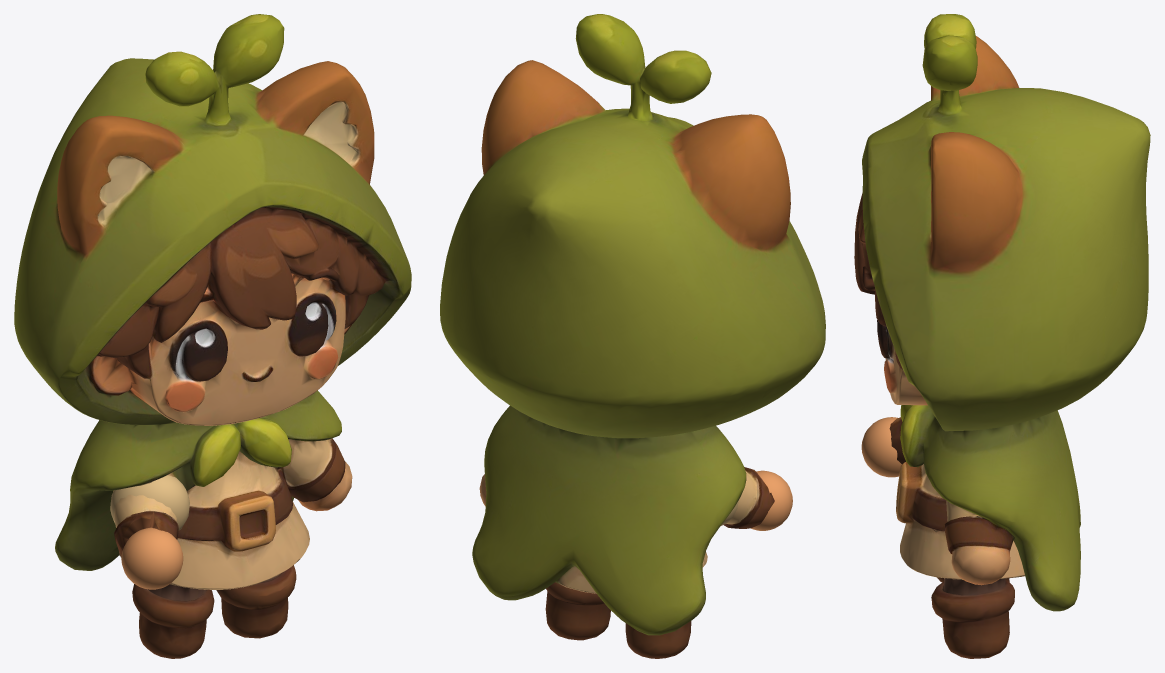
Rendered from hero.glb.
3 renders of one model, left to right at view 1: azimuth 30°, elevation 25°; view 2: azimuth 150°, elevation 25°; view 3: azimuth 270°, elevation 25°, orthographic. The views are drawn at different scales.
Parts seen in each view (by area): view 1: body, armR_mesh; view 2: body, armR_mesh; view 3: body, armR_mesh.
Boxes of the visible parts, box(x1,y1,x2,y2) form: body: box(14, 14, 411, 658); armR_mesh: box(110, 473, 189, 589); body: box(440, 14, 825, 658); armR_mesh: box(720, 467, 792, 530); body: box(854, 14, 1150, 658); armR_mesh: box(861, 417, 905, 477).
Bounding box in the file's own units: 0.5983 × 1 × 0.4399.
1 material, 1 textured.
